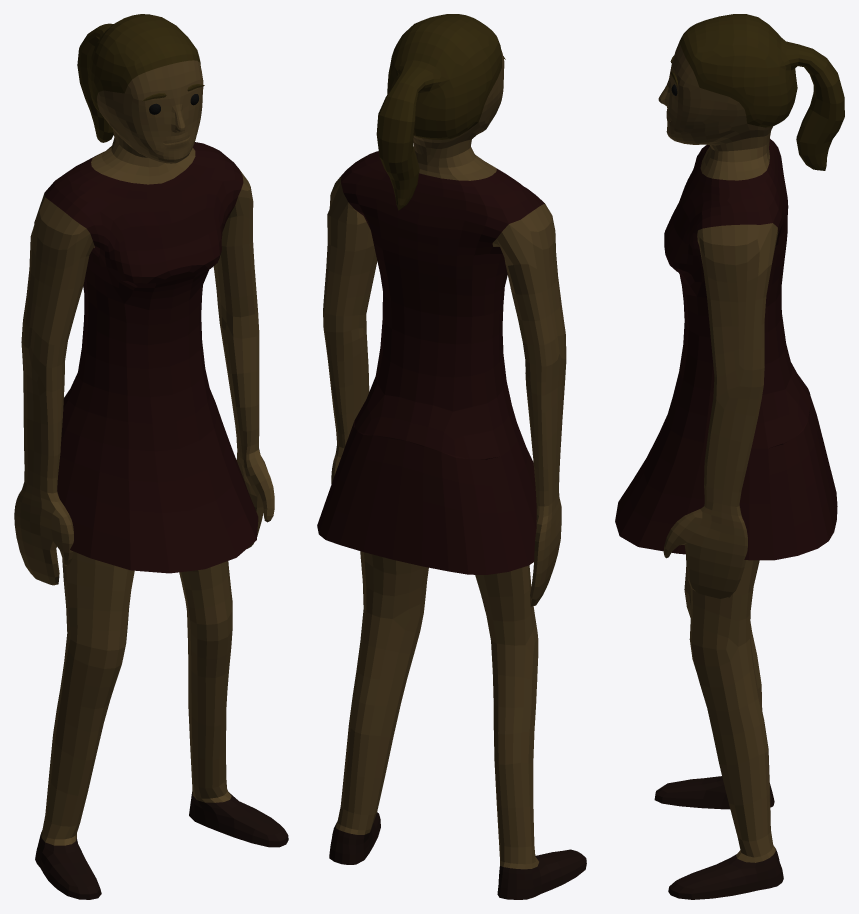
Rendered from Smooth_Female_Dress.obj.
The picture shows the model from 3 angles, left to right: view 1: azimuth 30°, elevation 25°; view 2: azimuth 150°, elevation 25°; view 3: azimuth 270°, elevation 25°; orthographic projection. The views are drawn at different scales.
Visible parts, largest first — view 1: Female_Cylinder.012; view 2: Female_Cylinder.012; view 3: Female_Cylinder.012.
Part boxes in pixels (x1,y1,x2,y2): Female_Cylinder.012: (14, 14, 288, 899); Female_Cylinder.012: (317, 14, 586, 899); Female_Cylinder.012: (615, 14, 844, 899).
Size of the model in its own units: 1.37 by 4.64 by 1.18.
